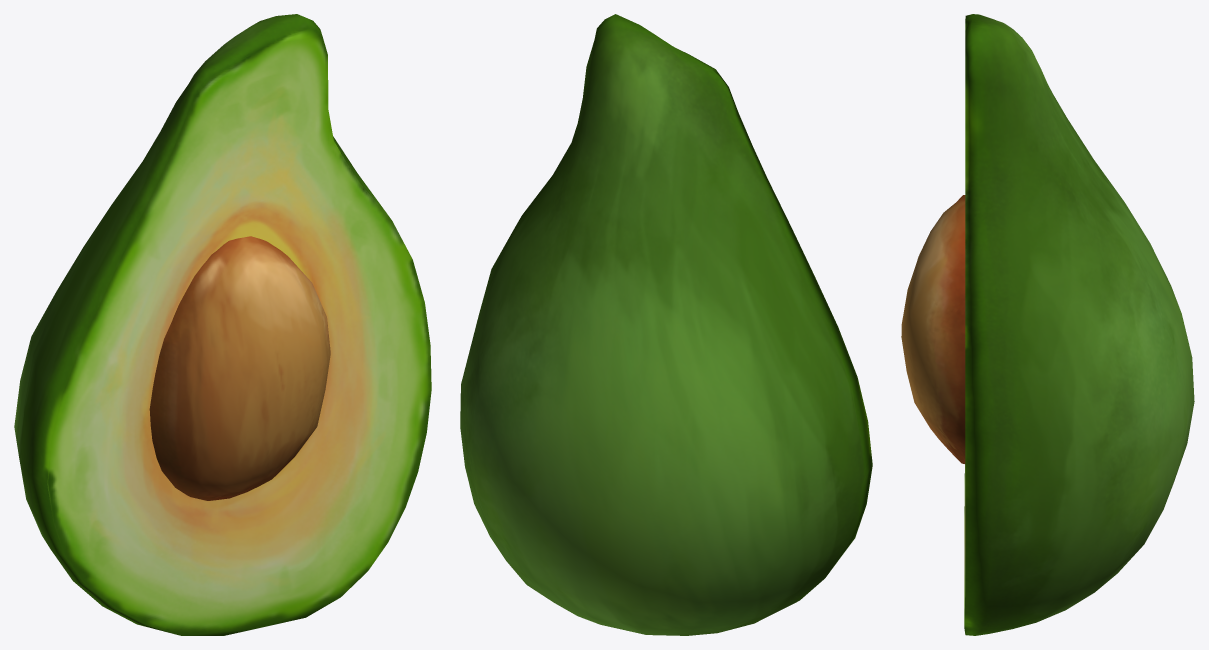
The model's file is avocado_draco.glb.
3 renders of one model, left to right at view 1: azimuth 30°, elevation 25°; view 2: azimuth 150°, elevation 25°; view 3: azimuth 270°, elevation 25°, orthographic. The views are drawn at different scales.
Parts seen in each view (by area): view 1: Avocado; view 2: Avocado; view 3: Avocado.
Boxes of the visible parts, x1,y1,x2,y2 form: Avocado: (14,14,431,635); Avocado: (460,14,872,635); Avocado: (901,14,1194,635).
Size of the model in its own units: 0.0426 by 0.0629 by 0.0276.
1 material, 1 textured.
